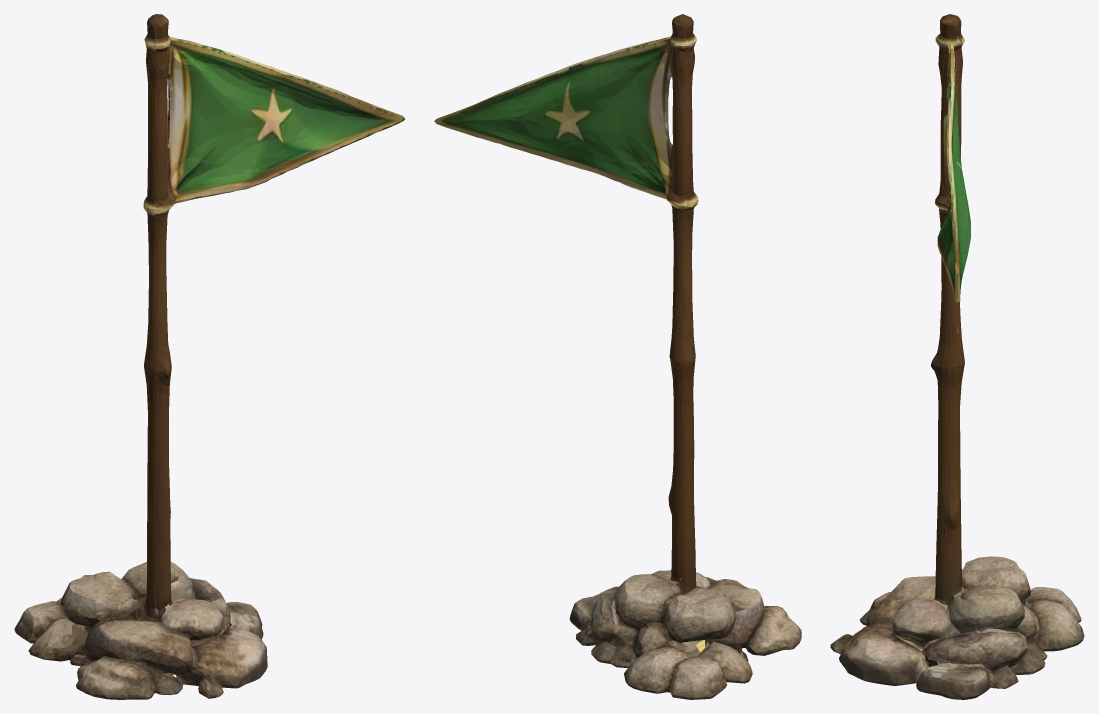
Rendered from flag.glb.
3 views of the same model, side by side, from view 1: azimuth 30°, elevation 25°; view 2: azimuth 150°, elevation 25°; view 3: azimuth 270°, elevation 25° (orthographic). The views are drawn at different scales.
Visible parts, largest first — view 1: tmpryropzko.ply; view 2: tmpryropzko.ply; view 3: tmpryropzko.ply.
Part boxes in pixels (left/top/right/bottom): tmpryropzko.ply: left=14, top=14, right=405, bottom=699; tmpryropzko.ply: left=434, top=14, right=801, bottom=699; tmpryropzko.ply: left=830, top=14, right=1084, bottom=699.
Bounding box in the file's own units: 1.14 × 1.99 × 0.7221.
1 material, 1 textured.
